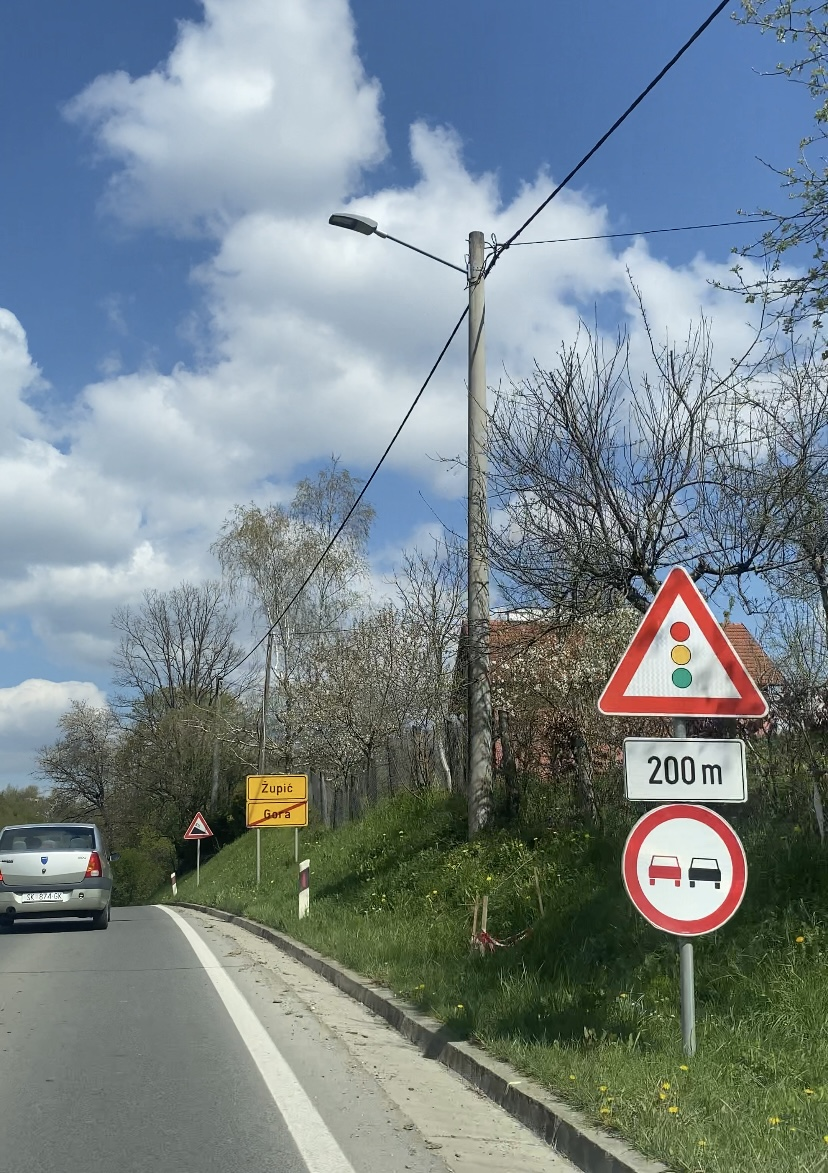Zabrana pretjecanja: (622, 802, 748, 936)
